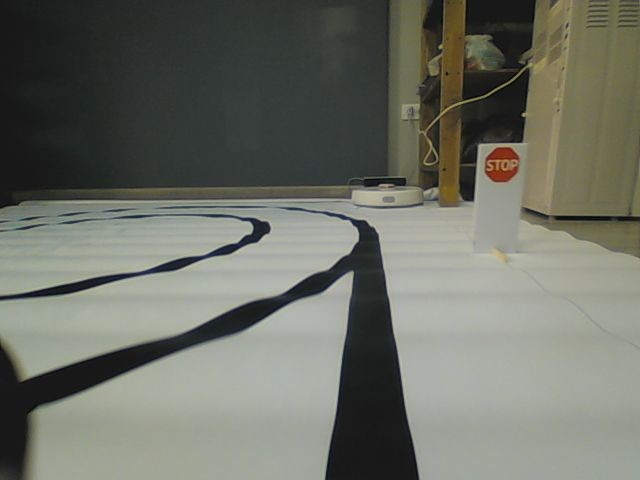Stop: (483, 146, 521, 183)
